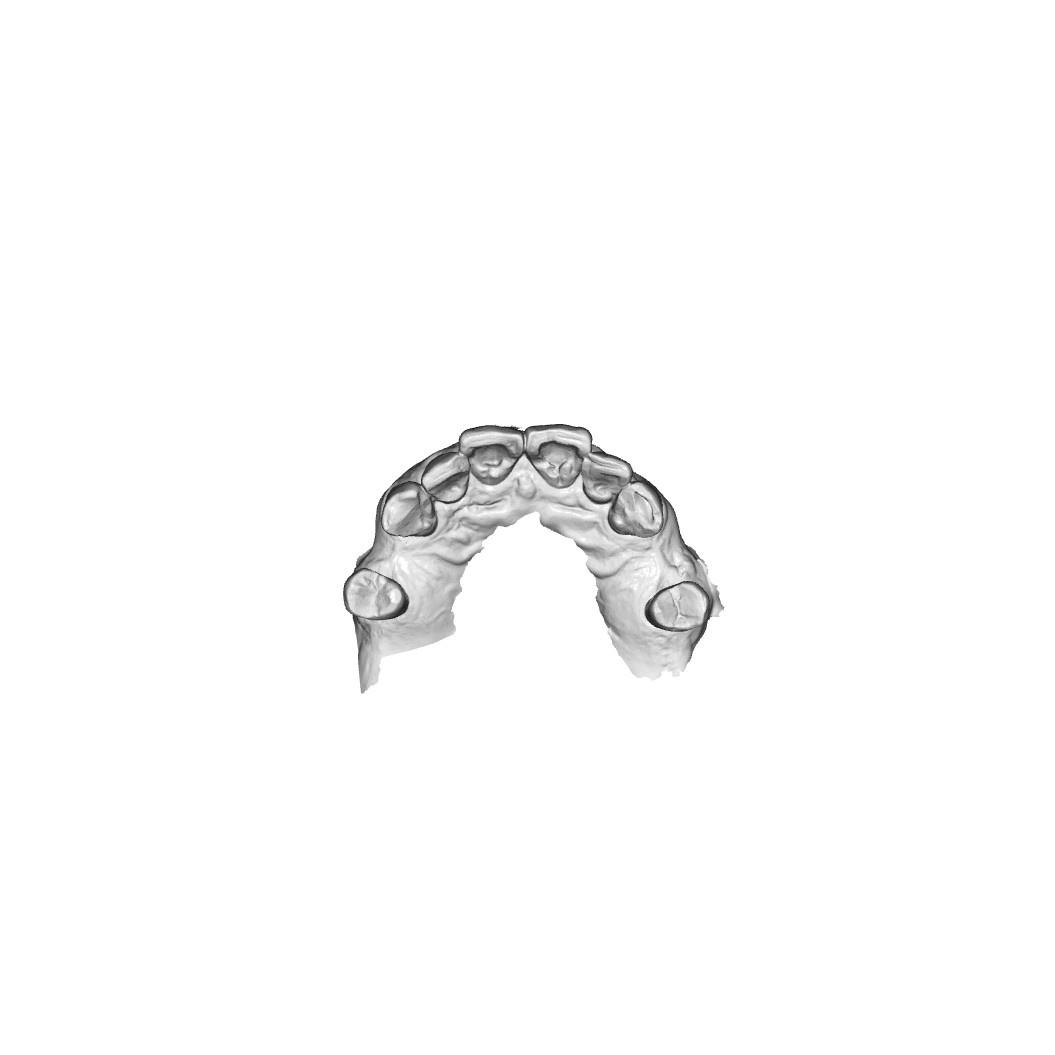canine: (378, 483, 439, 543), (603, 484, 664, 536)
incisor: (522, 425, 591, 487), (459, 425, 527, 484), (422, 450, 474, 505), (578, 451, 632, 503)
premolar: (642, 580, 713, 633), (341, 568, 410, 621)
